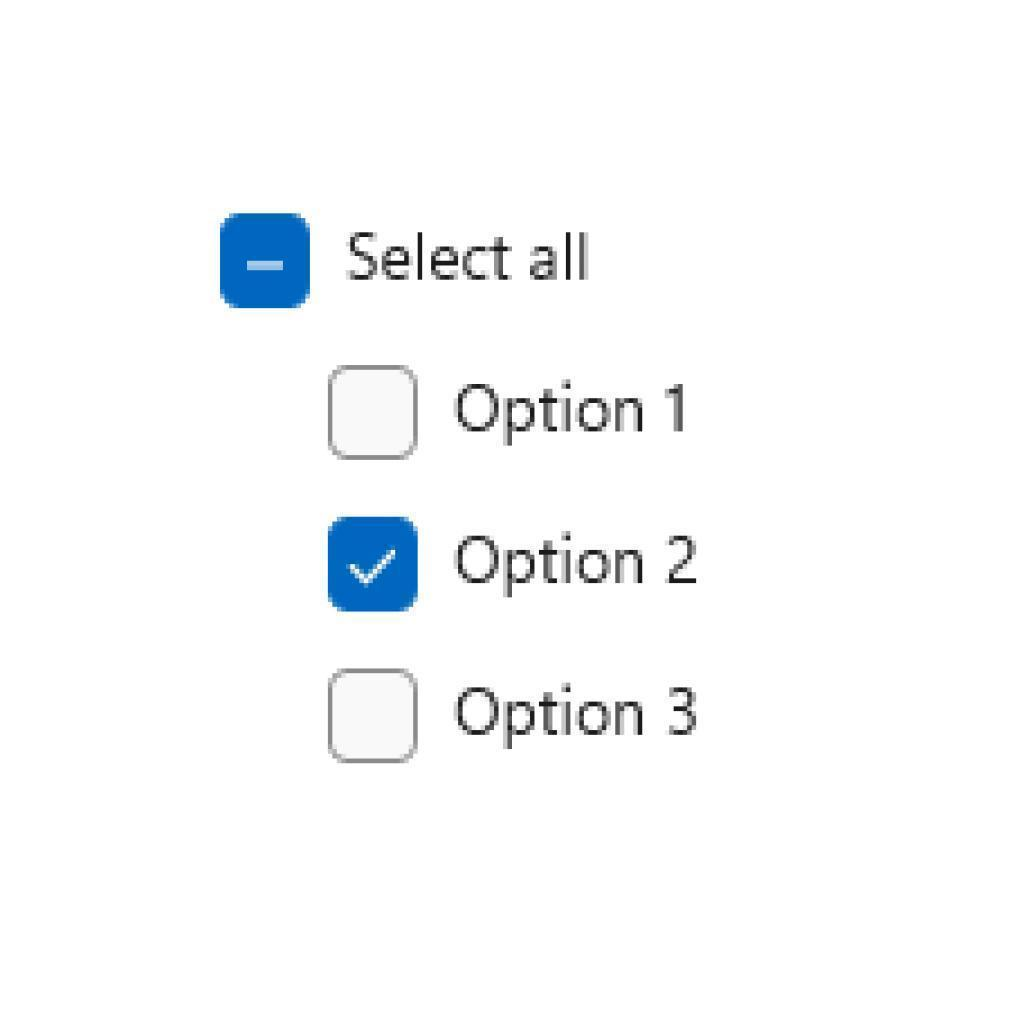checkbox: (323, 514, 419, 612), (327, 671, 418, 762), (330, 368, 419, 461)
icon: (219, 211, 310, 311)
